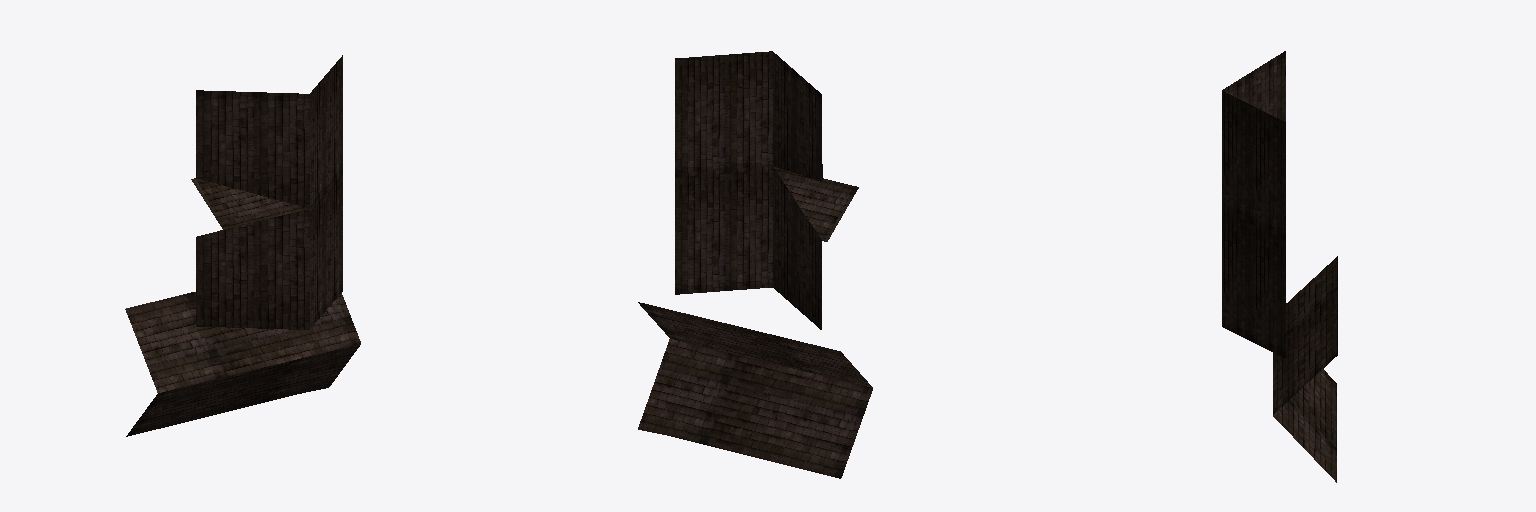
The picture shows the model from 3 angles: view 1: azimuth 30°, elevation 25°; view 2: azimuth 150°, elevation 25°; view 3: azimuth 270°, elevation 25°; orthographic projection.
Visible parts, largest first — view 1: roof; view 2: roof; view 3: roof.
Boxes of the visible parts, box(x1,y1,x2,y2) form: roof: box(125, 55, 360, 436); roof: box(638, 51, 872, 478); roof: box(1222, 51, 1337, 482).
Size of the model in its own units: 87.13 by 145 by 43.18.
1 materials, 1 textured.